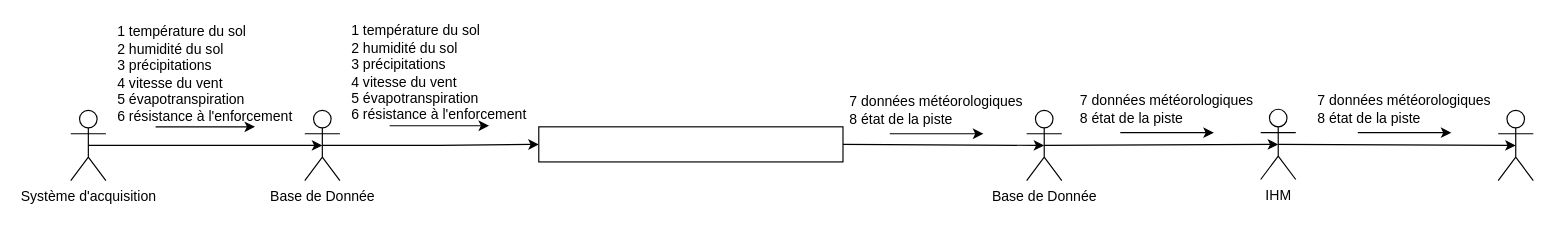
Some shapes in this 1567 by 225 pixel diagram are drawn without their labels. The shapes that lost their labels are listed below. From the top down, each one's centre as x and y in pixels, then its label:
At (690,144): "SystemeDeTraitement".
At (1515,145): "Opérateur".
